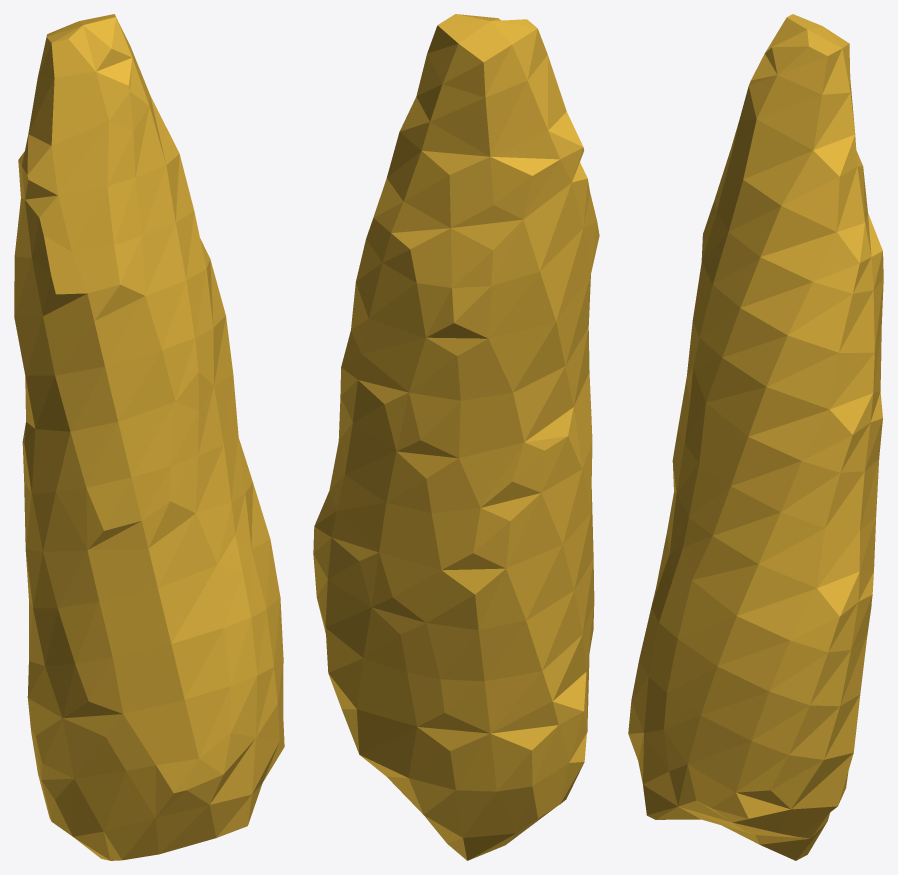
File: babycorn_02.glb
The picture shows the model from 3 angles, left to right: view 1: azimuth 30°, elevation 25°; view 2: azimuth 150°, elevation 25°; view 3: azimuth 270°, elevation 25°; orthographic projection. The views are drawn at different scales.
Visible parts, largest first — view 1: 玉米筍.002; view 2: 玉米筍.002; view 3: 玉米筍.002.
Boxes of the visible parts, box(x1,y1,x2,y2) form: 玉米筍.002: box(14, 14, 284, 860); 玉米筍.002: box(313, 14, 599, 860); 玉米筍.002: box(628, 14, 883, 860).
Size of the model in its own units: 1.03 by 3.36 by 0.9558.
